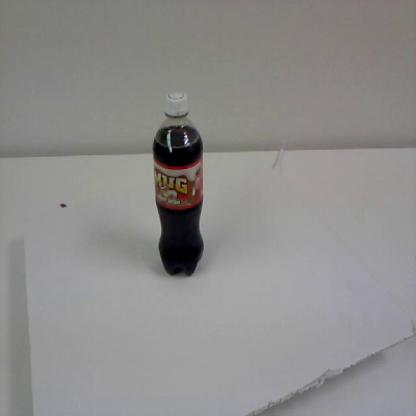bottle: (152, 86, 206, 280)
